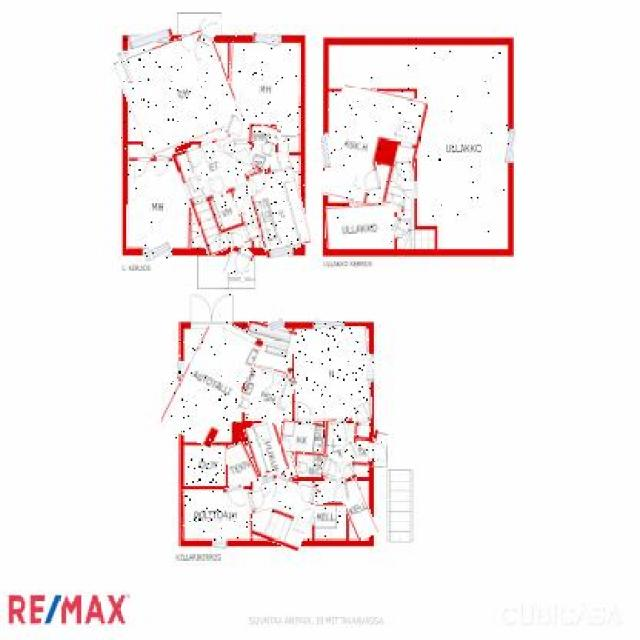door: (191, 291, 234, 326), (192, 14, 217, 64), (226, 249, 251, 280), (246, 489, 274, 514), (357, 163, 380, 192), (225, 486, 246, 511), (322, 454, 342, 480), (368, 440, 386, 468), (262, 474, 282, 498), (336, 442, 358, 462), (237, 148, 255, 172), (135, 160, 154, 182), (211, 174, 229, 197), (351, 403, 369, 425), (295, 399, 311, 423), (156, 157, 172, 181), (298, 483, 317, 503), (397, 158, 412, 182), (224, 117, 244, 135), (250, 171, 268, 191), (261, 368, 277, 390), (298, 506, 316, 525), (391, 218, 409, 237), (396, 117, 412, 138), (201, 142, 217, 163), (332, 483, 351, 500), (234, 140, 248, 162), (229, 232, 245, 251), (332, 422, 348, 440), (189, 174, 205, 192), (236, 194, 250, 214), (400, 183, 417, 199), (341, 465, 357, 480), (189, 172, 202, 186)
window: (128, 31, 172, 46), (145, 243, 172, 262), (320, 135, 332, 168), (120, 50, 131, 84), (266, 244, 292, 258), (506, 129, 514, 163), (314, 320, 344, 329), (254, 34, 281, 44), (366, 354, 374, 381), (268, 318, 284, 331), (212, 538, 226, 550), (178, 362, 184, 378)
zone: (331, 44, 509, 250), (120, 34, 237, 149), (325, 89, 423, 209), (171, 318, 252, 444), (180, 138, 258, 252), (294, 328, 371, 423), (228, 45, 300, 143), (128, 157, 190, 249), (248, 154, 306, 251), (248, 476, 315, 546), (182, 489, 252, 538), (326, 205, 394, 248), (241, 368, 294, 422), (241, 323, 294, 372), (322, 423, 369, 477), (341, 477, 374, 540), (248, 422, 286, 476), (185, 444, 226, 484), (280, 420, 323, 452), (227, 443, 256, 486), (252, 126, 277, 172), (312, 506, 346, 539), (312, 477, 350, 503), (294, 452, 323, 476), (369, 431, 386, 463), (352, 438, 371, 460), (278, 456, 297, 478), (354, 423, 369, 437)
